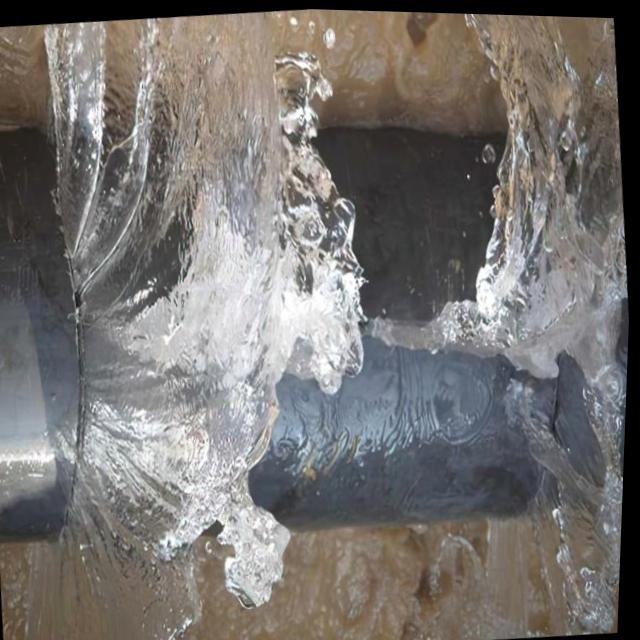leak: (27, 11, 361, 640), (367, 14, 626, 632)
